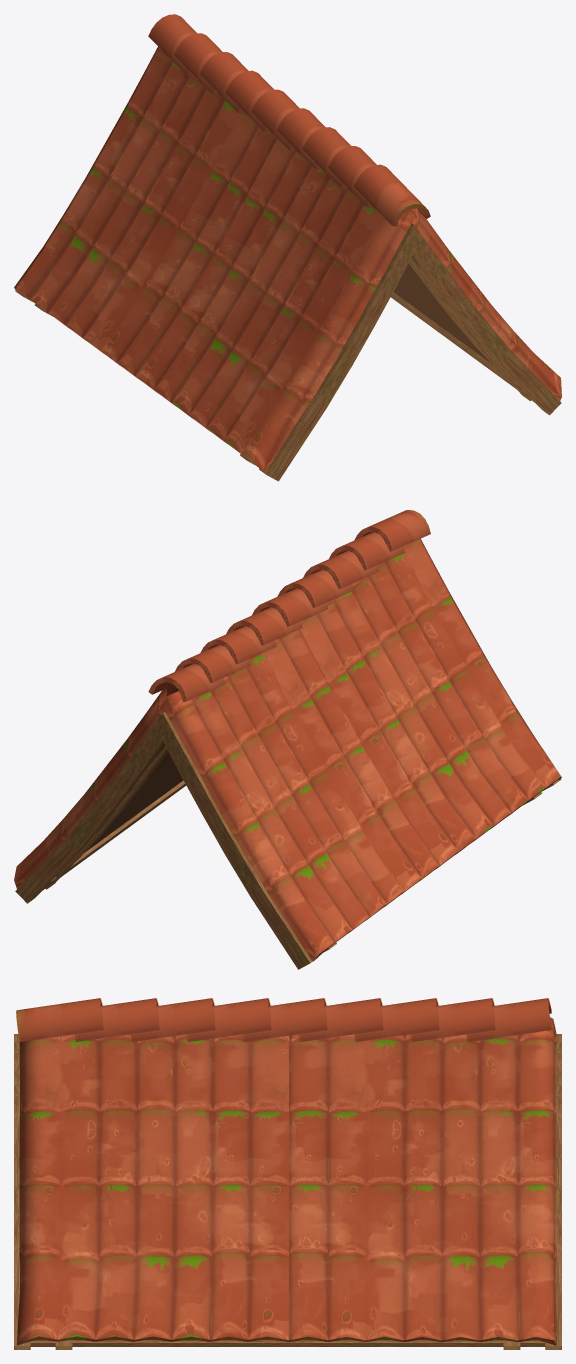
Rendered from Roof_RoundTiles_4x6.glb.
3 renders of one model, top to bottom at view 1: azimuth 30°, elevation 25°; view 2: azimuth 150°, elevation 25°; view 3: azimuth 270°, elevation 25°, orthographic. The views are drawn at different scales.
Parts seen in each view (by area): view 1: Roof_RoundTiles_4x6; view 2: Roof_RoundTiles_4x6; view 3: Roof_RoundTiles_4x6.
Boxes of the visible parts, box(x1,y1,x2,y2) form: Roof_RoundTiles_4x6: box(14, 14, 561, 481); Roof_RoundTiles_4x6: box(14, 510, 561, 969); Roof_RoundTiles_4x6: box(14, 998, 561, 1349).
Bounding box in the file's own units: 5.51 × 4.23 × 7.57.
Materials: 2 (2 with a texture image).
